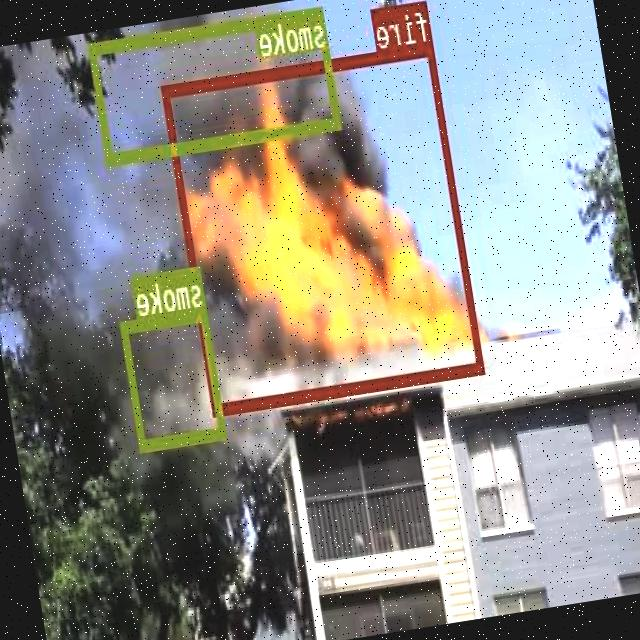fire: (162, 41, 486, 414)
smoke: (90, 6, 343, 164), (122, 308, 227, 450)
